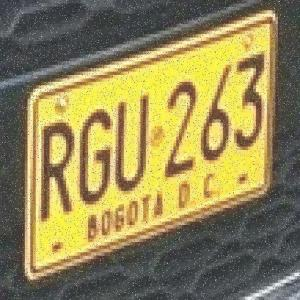Plate: (16, 8, 294, 282)
